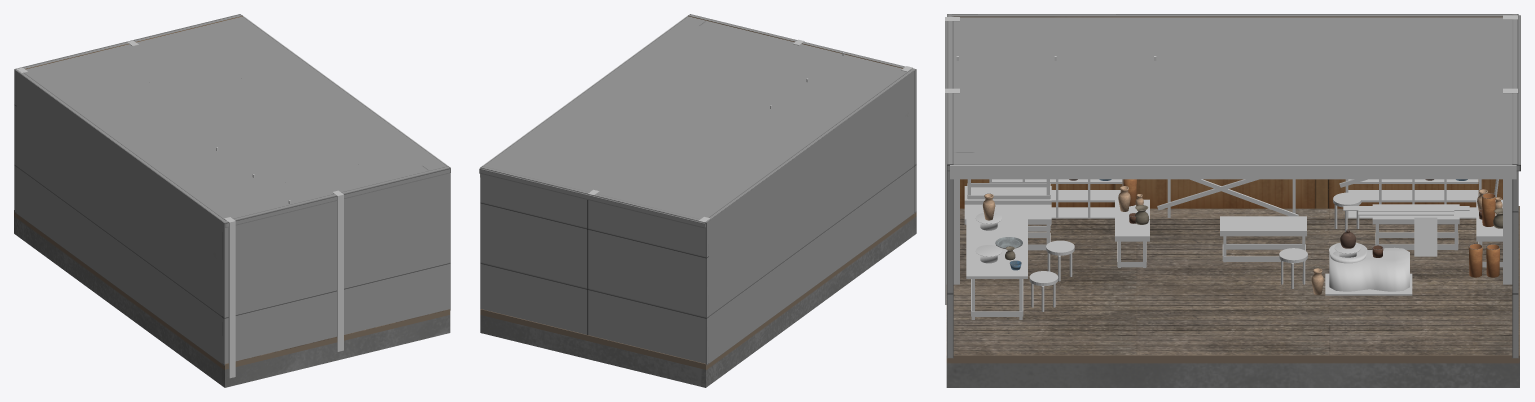
Rendered from Pottery shop03.fbx.
3 renders of one model, left to right at view 1: azimuth 30°, elevation 25°; view 2: azimuth 150°, elevation 25°; view 3: azimuth 270°, elevation 25°, orthographic. The views are drawn at different scales.
Visible parts, largest first — view 1: Cube.122, Cube.108, Cube.109, Cube.081, Cube.080, Cube.110, Cube.199; view 2: Cube.122, Cube.110, Cube.108, Cube.081, Cube.109; view 3: Cube.122, Cube.081, Cube.108, Cube.078, Cube.201, Cube.002, Cube.083, Cube.110, Cube.109, Cube.004, Cube.084, Cube.100 (+18 smaller).
Part boxes in pixels (x1,y1,x2,y2): Cube.122: [14, 14, 450, 227]; Cube.108: [16, 70, 226, 363]; Cube.109: [222, 166, 450, 365]; Cube.081: [14, 210, 450, 387]; Cube.080: [224, 217, 235, 378]; Cube.110: [14, 14, 242, 213]; Cube.199: [332, 190, 343, 351]; Cube.122: [479, 16, 906, 228]; Cube.110: [480, 166, 708, 365]; Cube.108: [707, 69, 914, 363]; Cube.081: [480, 212, 916, 387]; Cube.109: [688, 14, 916, 213]; Cube.122: [947, 15, 1520, 171]; Cube.081: [946, 206, 1519, 387]; Cube.108: [951, 14, 1512, 208]; Cube.078: [950, 165, 1516, 179]; Cube.201: [966, 208, 1027, 278]; Cube.002: [1329, 247, 1409, 291]; Cube.083: [1220, 216, 1306, 262]; Cube.110: [1512, 14, 1518, 358]; Cube.109: [947, 14, 953, 358]; Cube.004: [1372, 204, 1459, 250]; Cube.084: [1348, 190, 1478, 202]; Cube.100: [1115, 199, 1149, 267].
Bounding box in the file's own units: 275 × 194 × 444.
